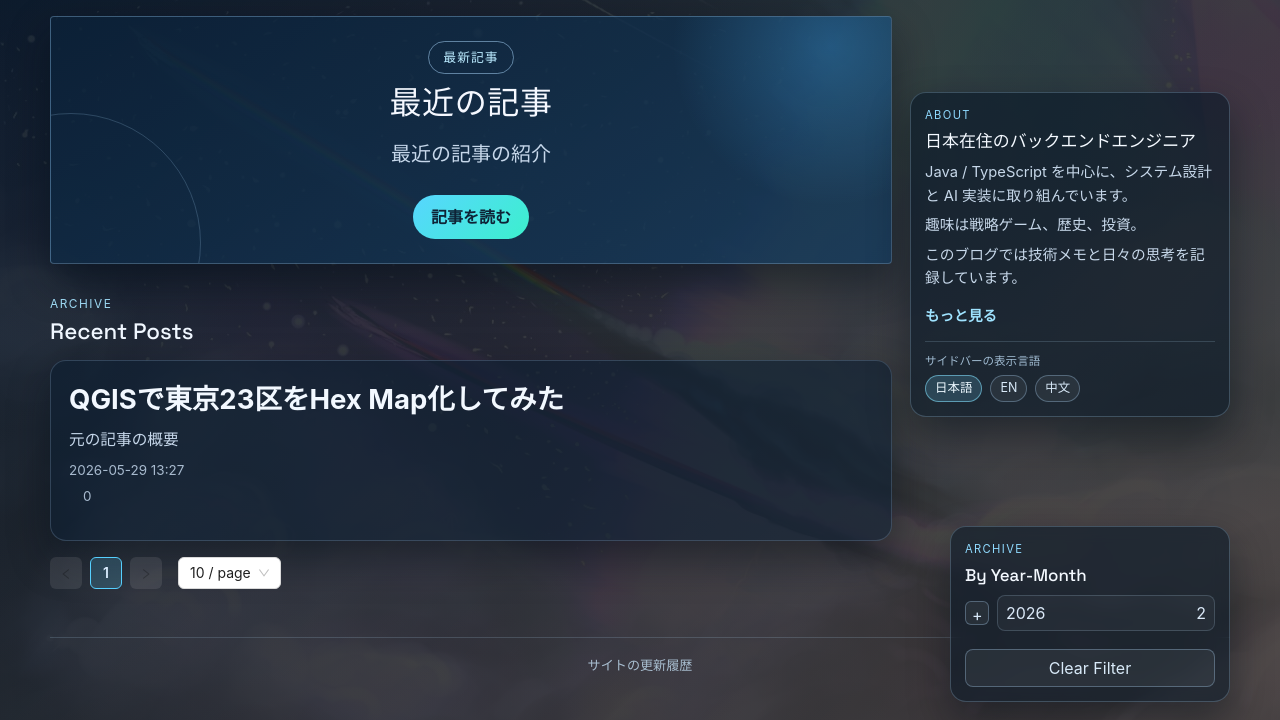
侧栏语言按钮只切换侧栏文案
The width and height of the screenshot is (1280, 720).
Expected: the heading "最近の記事" is shown, [389,83,553,123]
Expected: the element named "サイドバーの表示言語" is shown, [925,375,1080,402]
Click the button "EN".
click(1009, 389)  # box [990,375,1027,402]
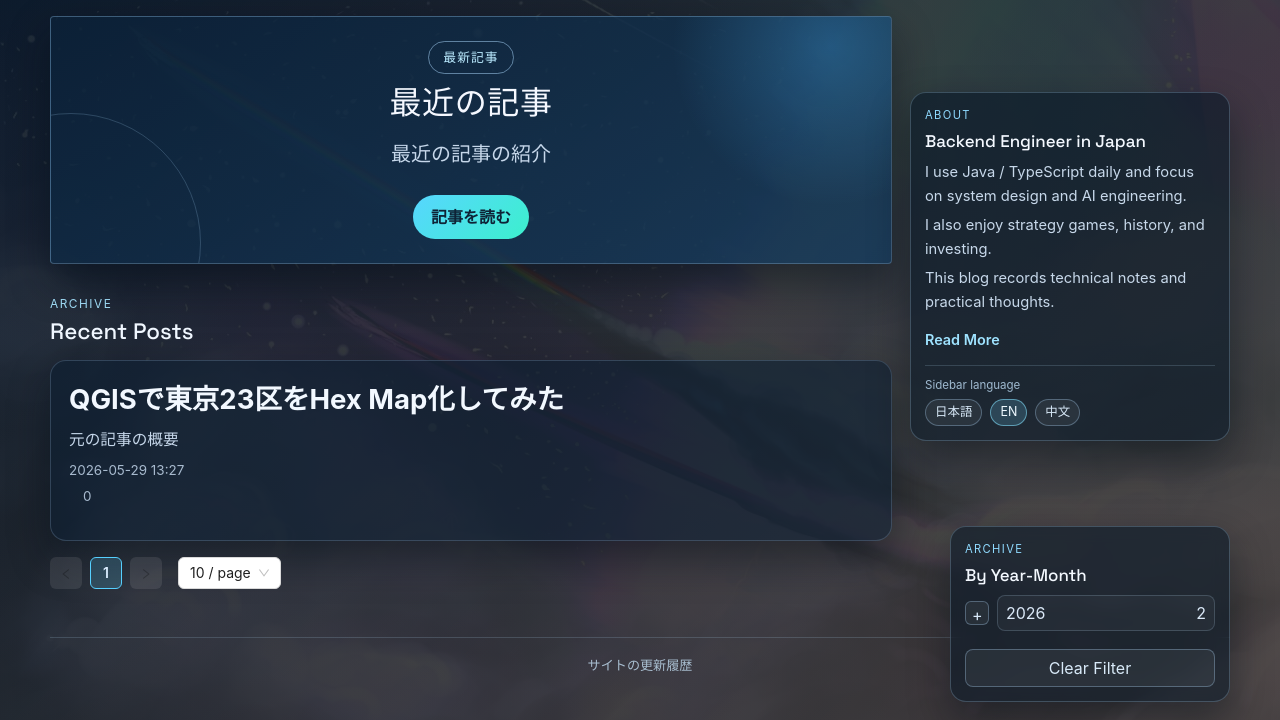
Expected: the heading "最近の記事" is shown, [389,83,553,123]
Result: the heading "Backend Engineer in Japan" is shown at [925,130,1146,152]
Result: the text "I also enjoy strategy games, history, and investing." is shown at [925,214,1215,262]
